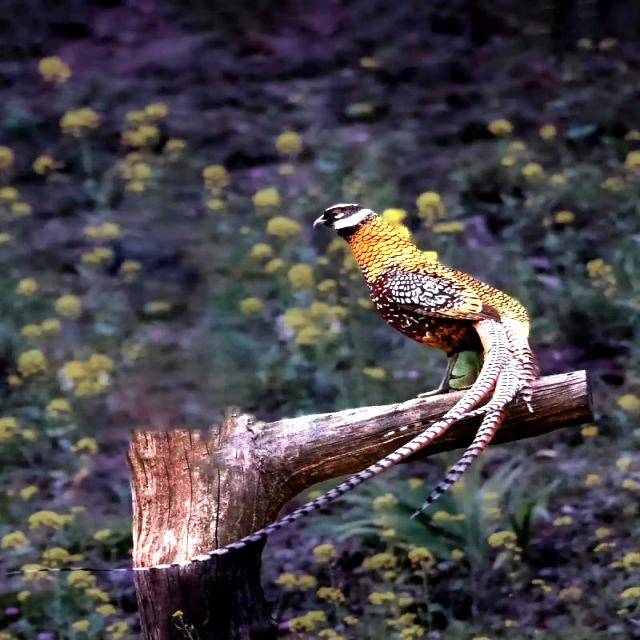Reeves-s Pheasant: (2, 317, 535, 574)
